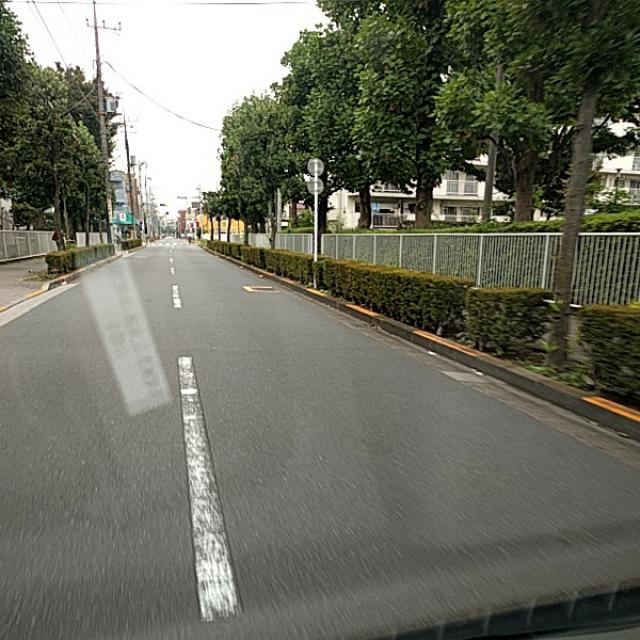pothole: (154, 431, 236, 554)
